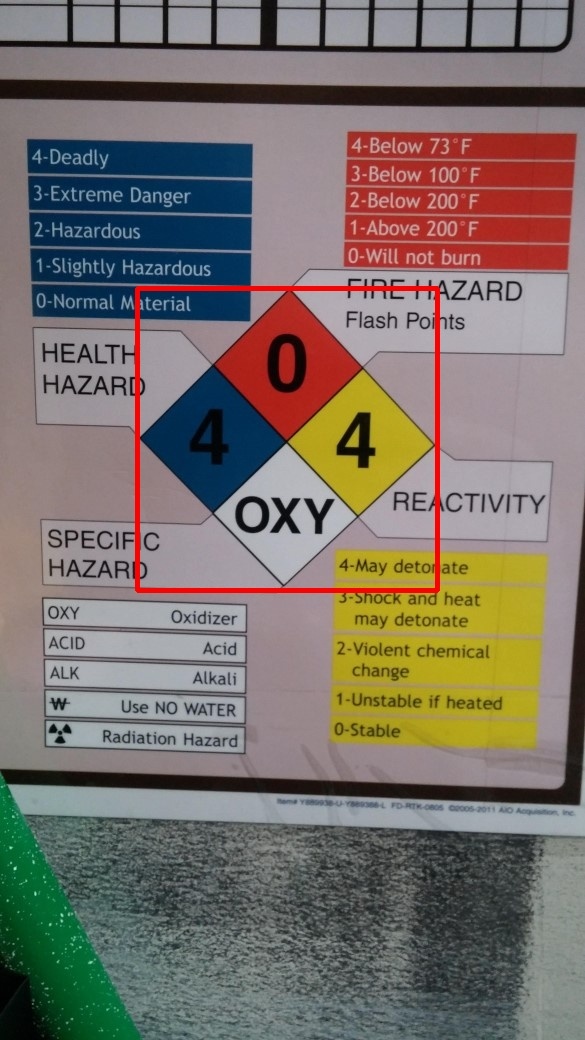nfpa: (137, 288, 437, 590)
